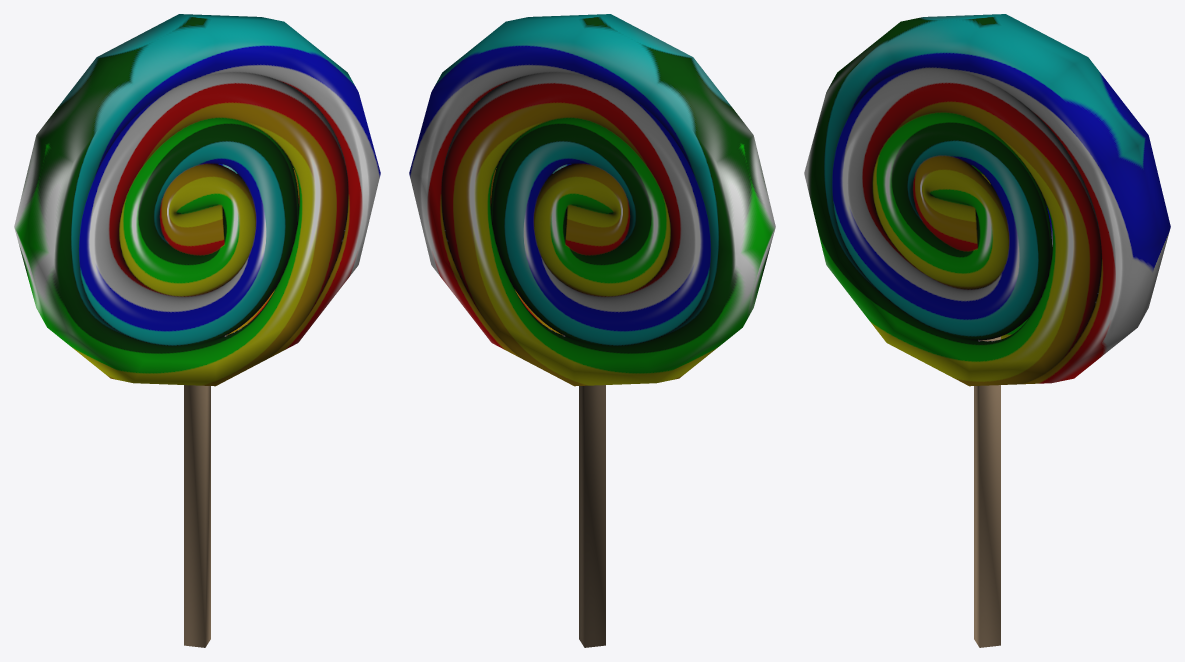
File: candy_01.fbx
3 views of the same model, side by side, from view 1: azimuth 30°, elevation 25°; view 2: azimuth 150°, elevation 25°; view 3: azimuth 330°, elevation 25° (orthographic).
Visible parts, largest first — view 1: candy_01; view 2: candy_01; view 3: candy_01.
Boxes of the visible parts, bbox=[...] form: candy_01: bbox=[14, 14, 380, 647]; candy_01: bbox=[409, 14, 775, 647]; candy_01: bbox=[804, 14, 1170, 647].
Size of the model in its own units: 1.07 by 1.84 by 0.1967.
